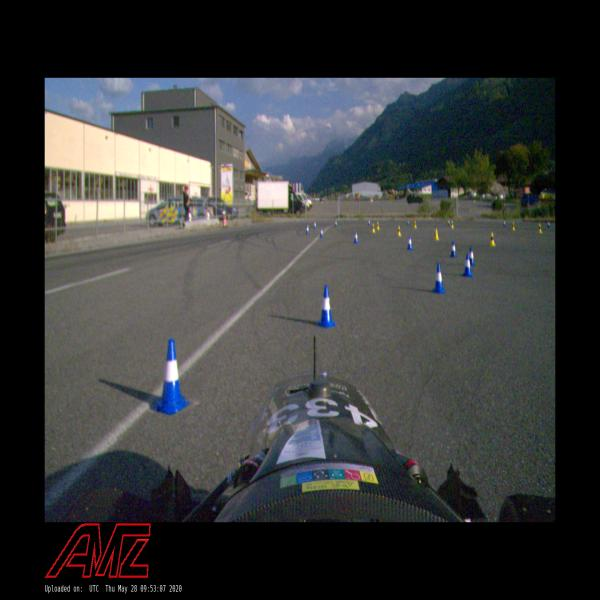blue_cone: (150, 340, 192, 416), (316, 285, 337, 328), (432, 264, 446, 294), (462, 254, 474, 278), (469, 246, 475, 266), (450, 241, 457, 258), (407, 236, 413, 250), (354, 230, 359, 244), (320, 228, 324, 237), (306, 223, 309, 234), (503, 219, 506, 228), (314, 220, 316, 229), (335, 220, 337, 227), (407, 219, 409, 225), (448, 219, 450, 225), (548, 222, 550, 228), (369, 219, 370, 225)
yellow_cone: (488, 232, 496, 247), (434, 229, 439, 240), (397, 226, 402, 236), (511, 222, 515, 232), (538, 224, 542, 234), (372, 223, 375, 233), (451, 220, 454, 229), (414, 220, 416, 229), (377, 222, 379, 230)
